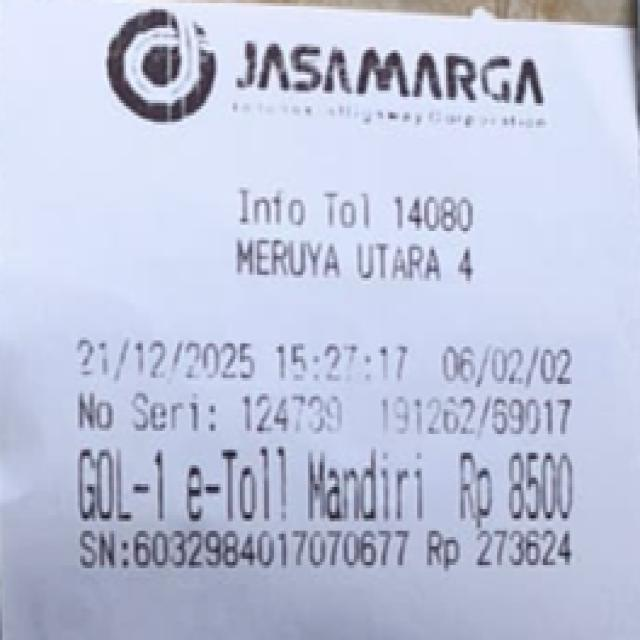date: (68, 329, 415, 389)
store: (214, 29, 564, 125)
total: (457, 447, 589, 522)
